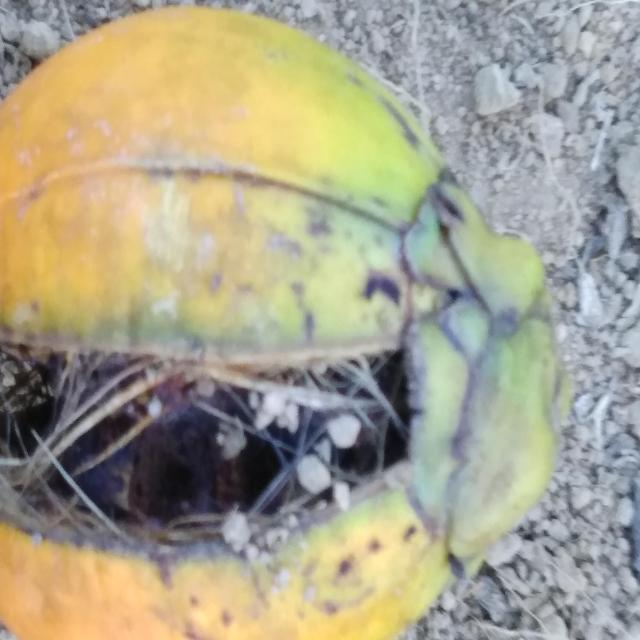damaged: (0, 6, 574, 640)
